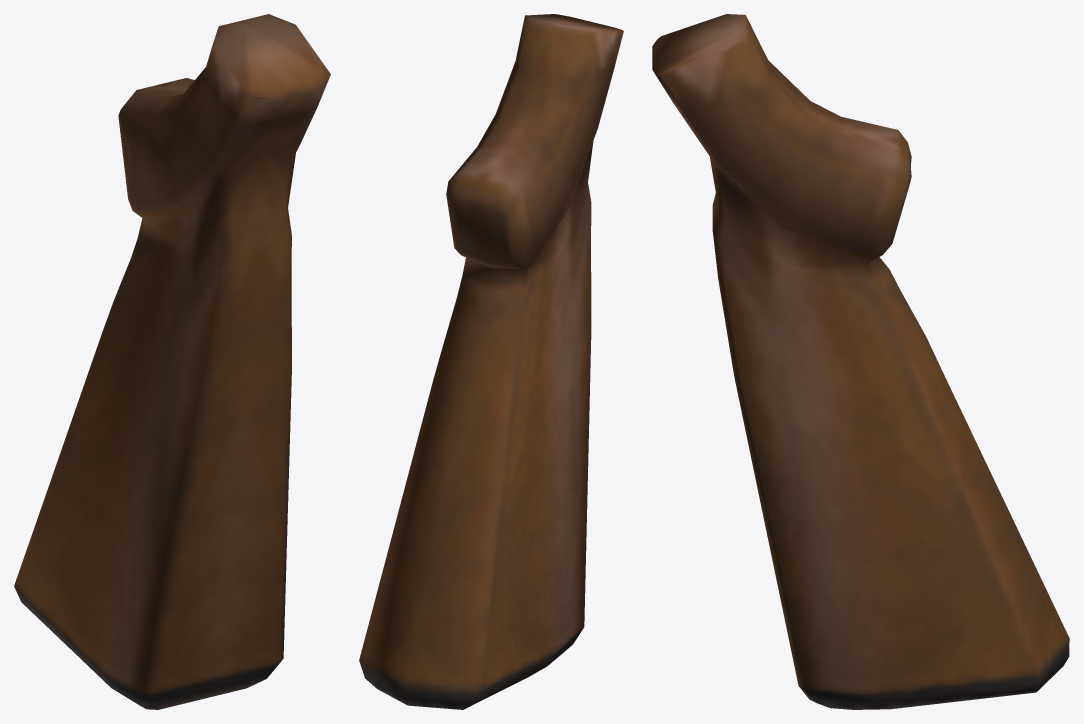
Rendered from Shotgun_PSX_Stock.fbx.
3 renders of one model, left to right at view 1: azimuth 30°, elevation 25°; view 2: azimuth 150°, elevation 25°; view 3: azimuth 270°, elevation 25°, orthographic. The views are drawn at different scales.
Parts seen in each view (by area): view 1: Stock; view 2: Stock; view 3: Stock.
Part boxes in pixels (<box>): Stock: <box>14,14,330,709</box>; Stock: <box>359,14,623,709</box>; Stock: <box>652,14,1069,709</box>.
Bounding box in the file's own units: 69.01 × 324 × 186.
